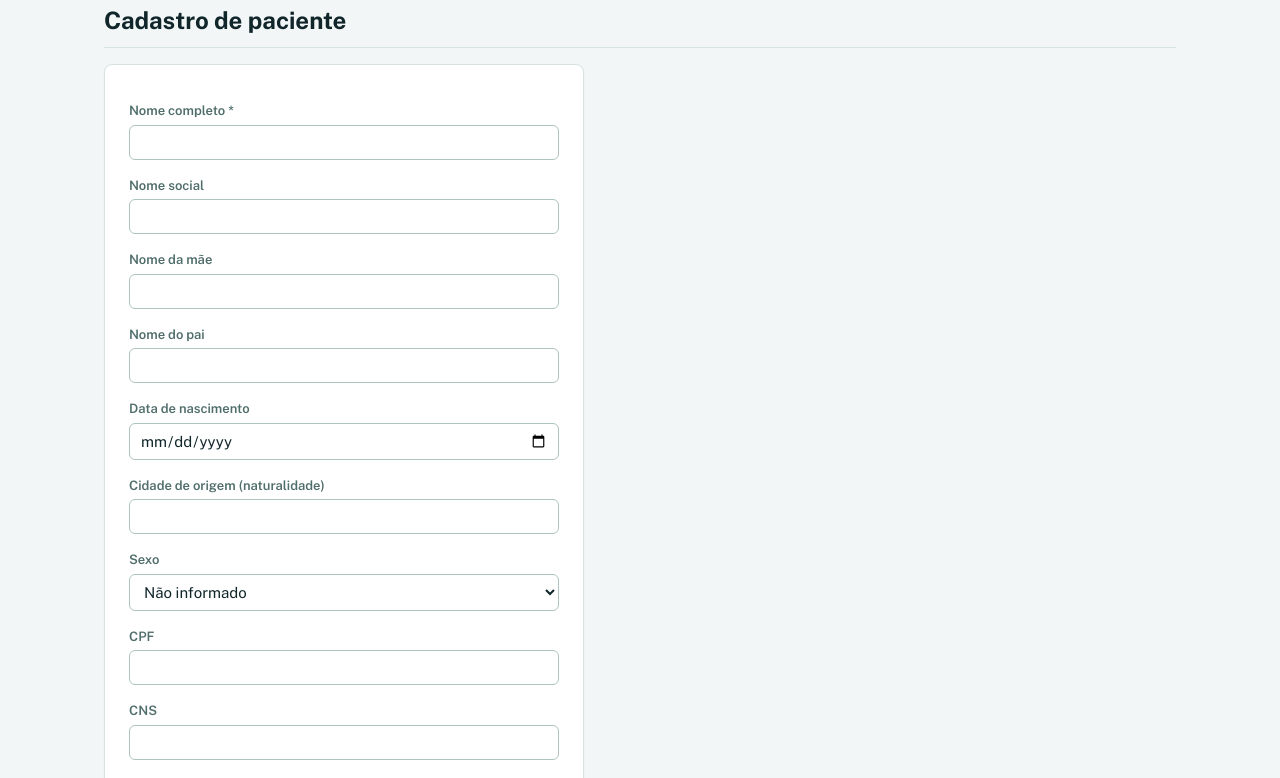
PatientRegisterPage › 7/8. cadastro válido mostra feedback de sucesso com o prontuário gerado
In the field labelled "Nome completo *": (344, 142) [129,124,559,160], type "Maria Souza"
(page scrolled)
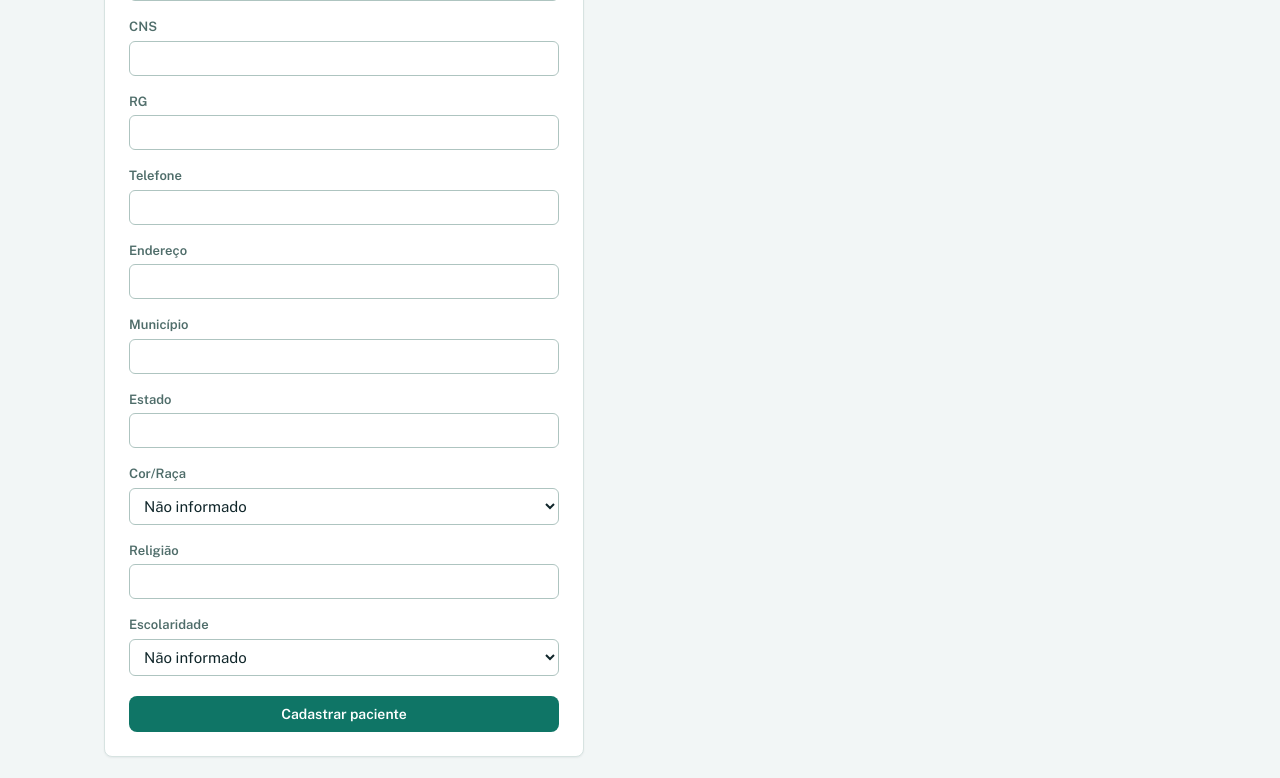
Click the button "Cadastrar paciente": (344, 714) [129,696,559,732]
(page scrolled)
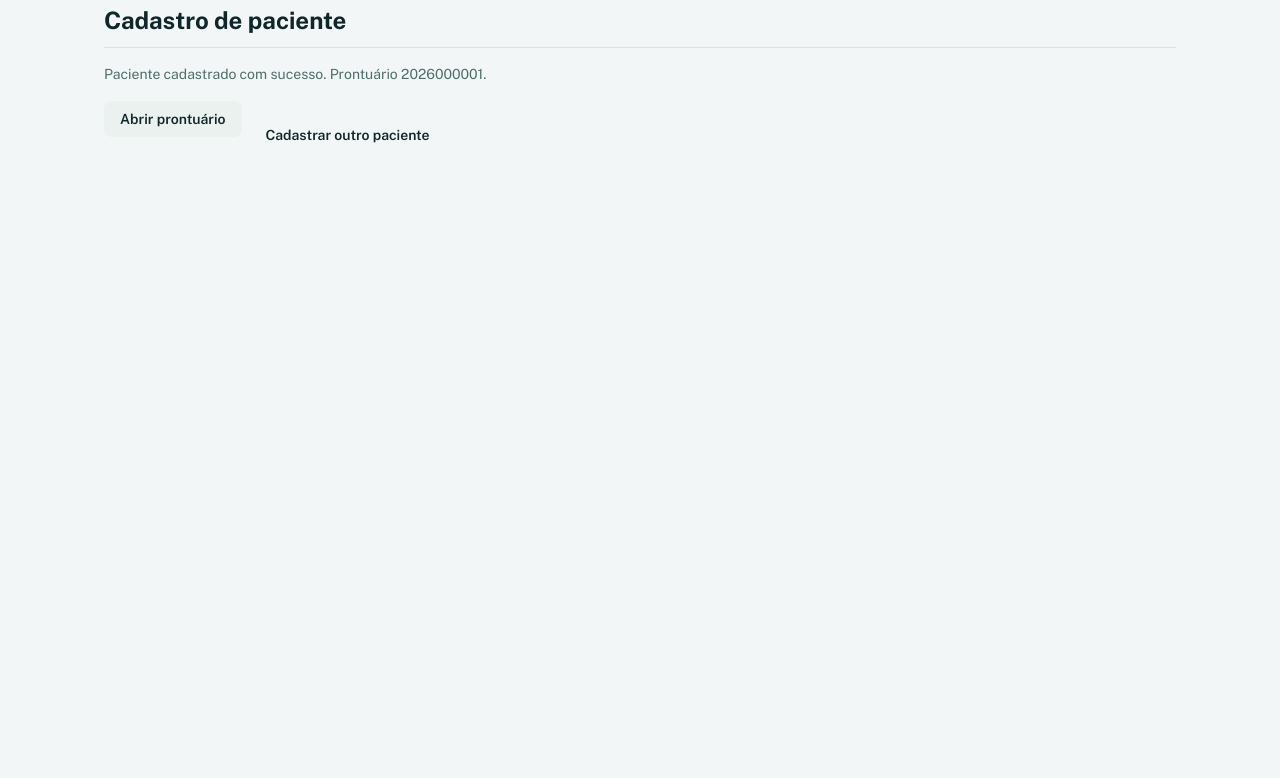
Check: the text "Paciente cadastrado com sucesso. Prontuário 2026000001." is shown, box [104,66,486,82]
